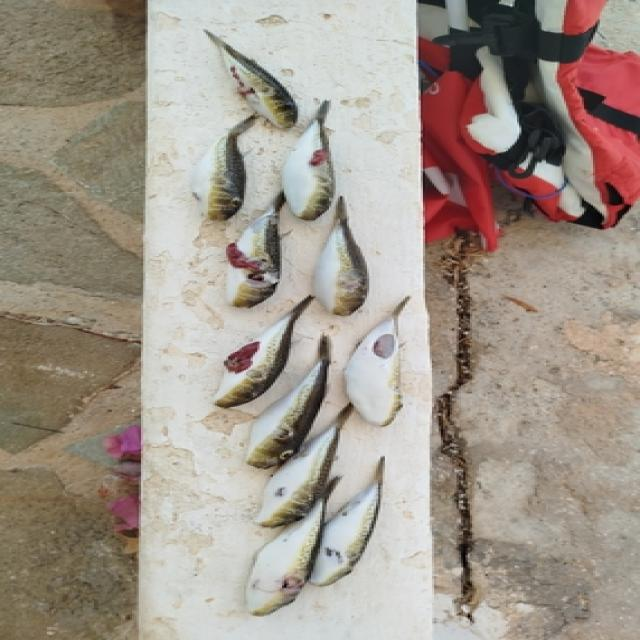Balik: (247, 477, 340, 615), (256, 405, 353, 527), (247, 336, 331, 468), (215, 296, 313, 408), (309, 457, 384, 586), (206, 31, 297, 129), (345, 297, 409, 426), (193, 116, 257, 220), (314, 198, 369, 316), (227, 194, 284, 307), (282, 102, 335, 220)
